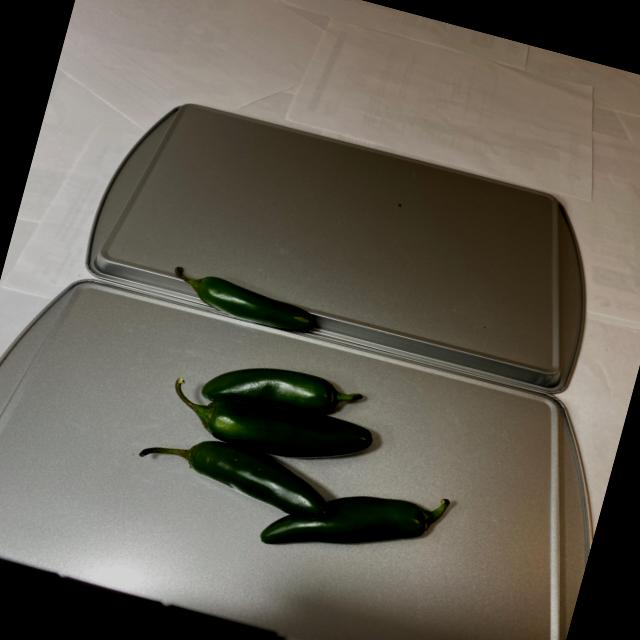chilli: (101, 258, 502, 585)
